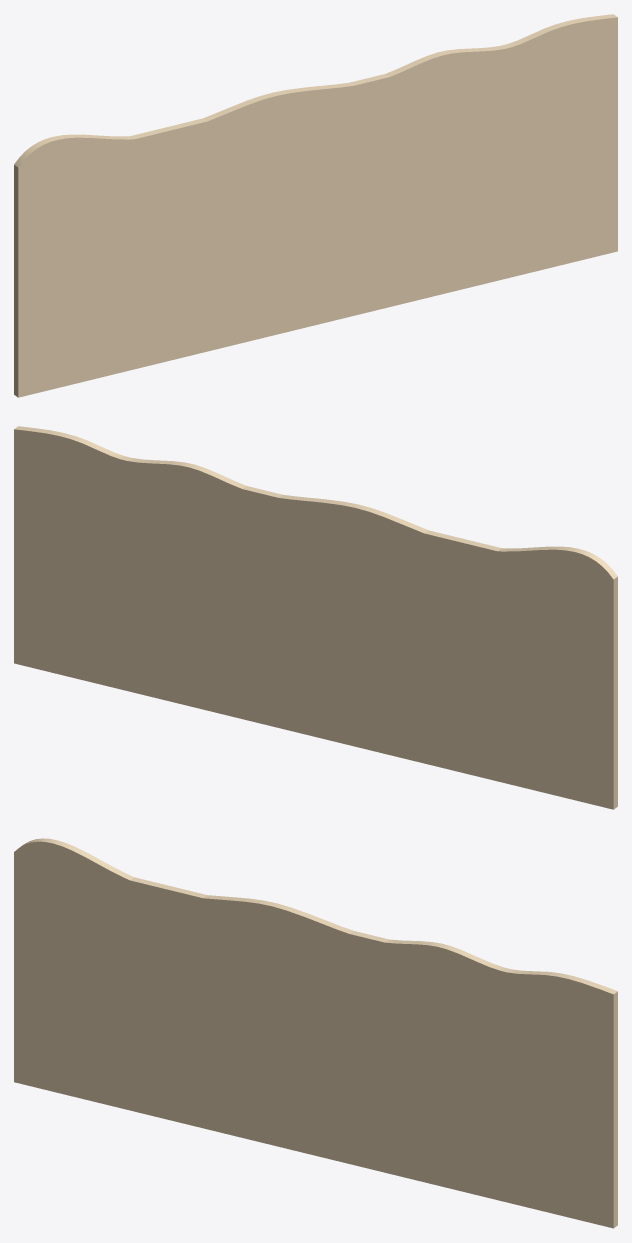
The model's file is Counter Top 60 Live Edge.fbx.
3 views of the same model, one above another, from view 1: azimuth 30°, elevation 25°; view 2: azimuth 150°, elevation 25°; view 3: azimuth 330°, elevation 25° (orthographic).
Visible parts, largest first — view 1: Body_1; view 2: Body_1; view 3: Body_1.
Part boxes in pixels (left/top/right/bottom): Body_1: left=14, top=14, right=617, bottom=397; Body_1: left=14, top=426, right=617, bottom=809; Body_1: left=14, top=838, right=617, bottom=1228.
Size of the model in its own units: 152 by 60.3 by 1.91.
